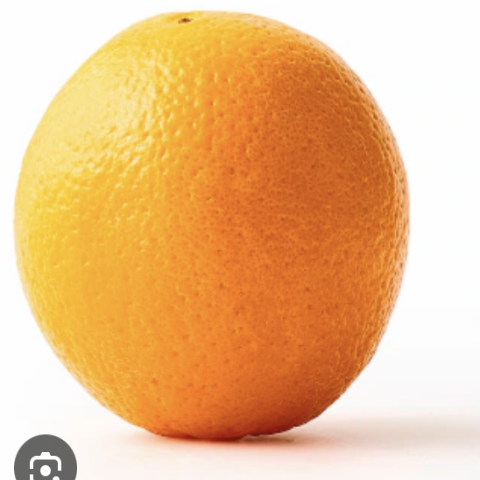orange: (0, 7, 451, 479)
